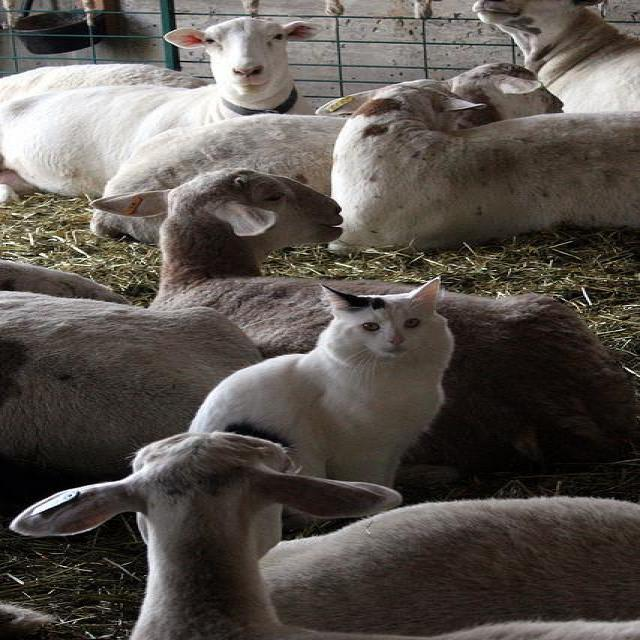Sheep: (82, 165, 638, 477), (0, 431, 403, 634), (102, 62, 563, 198), (0, 20, 325, 200), (314, 75, 638, 250), (252, 497, 638, 632), (0, 289, 265, 477), (472, 0, 639, 114)
